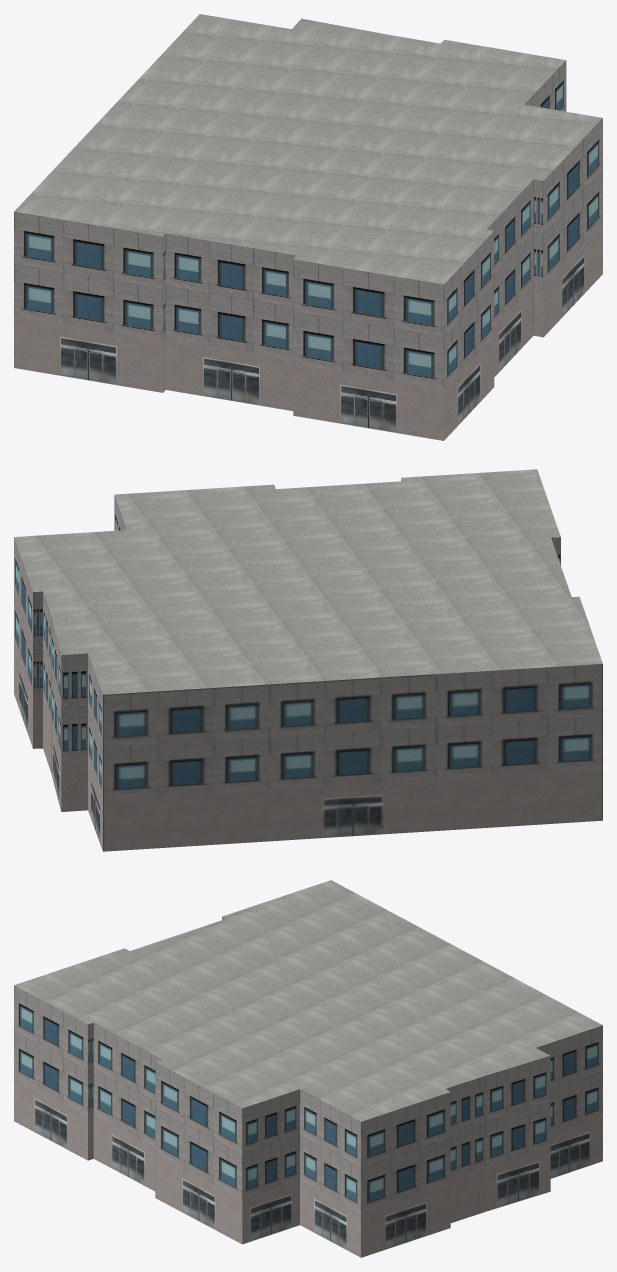
The picture shows the model from 3 angles, top to bottom: view 1: azimuth 30°, elevation 25°; view 2: azimuth 150°, elevation 25°; view 3: azimuth 270°, elevation 25°; orthographic projection. The views are drawn at different scales.
Parts seen in each view (by area): view 1: BuildingMaster_1976193526184463568200000000_1, BuildingMaster_1976193526184463568200000000_0; view 2: BuildingMaster_1976193526184463568200000000_1, BuildingMaster_1976193526184463568200000000_0; view 3: BuildingMaster_1976193526184463568200000000_0, BuildingMaster_1976193526184463568200000000_1.
Part boxes in pixels (box(x1,y1,x2,y2)): BuildingMaster_1976193526184463568200000000_1: box(14, 14, 602, 284); BuildingMaster_1976193526184463568200000000_0: box(14, 60, 602, 440); BuildingMaster_1976193526184463568200000000_1: box(14, 469, 602, 694); BuildingMaster_1976193526184463568200000000_0: box(14, 478, 602, 851); BuildingMaster_1976193526184463568200000000_0: box(14, 917, 602, 1257); BuildingMaster_1976193526184463568200000000_1: box(14, 880, 602, 1121).
Size of the model in its own units: 40.05 by 10.5 by 41.22.
Materials: 2 (2 with a texture image).
